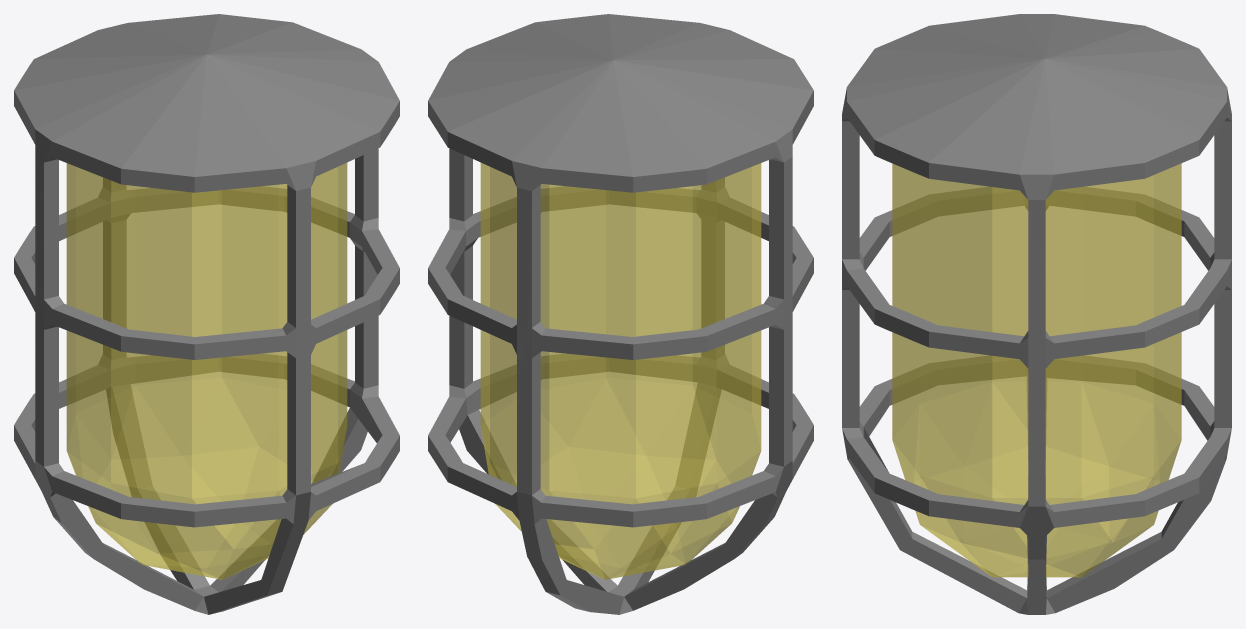
Rendered from mineLight.glb.
3 views of the same model, side by side, from view 1: azimuth 30°, elevation 25°; view 2: azimuth 150°, elevation 25°; view 3: azimuth 270°, elevation 25° (orthographic).
Parts seen in each view (by area): view 1: Circle, Icosphere; view 2: Circle, Icosphere; view 3: Circle, Icosphere.
Part boxes in pixels (x1,y1,x2,y2): Circle: [14, 14, 399, 614]; Icosphere: [66, 162, 347, 579]; Circle: [428, 14, 813, 614]; Icosphere: [480, 162, 761, 579]; Circle: [842, 14, 1231, 614]; Icosphere: [892, 163, 1181, 577].
Bounding box in the file's own units: 1.05 × 1.64 × 1.05.
